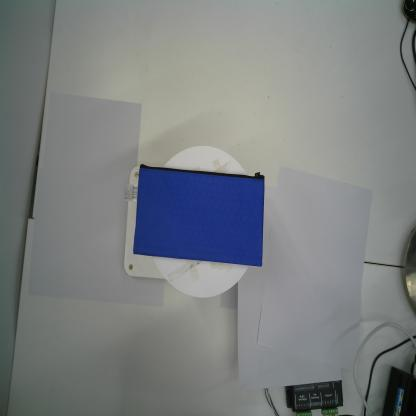Stationery: (132, 164, 265, 267)
